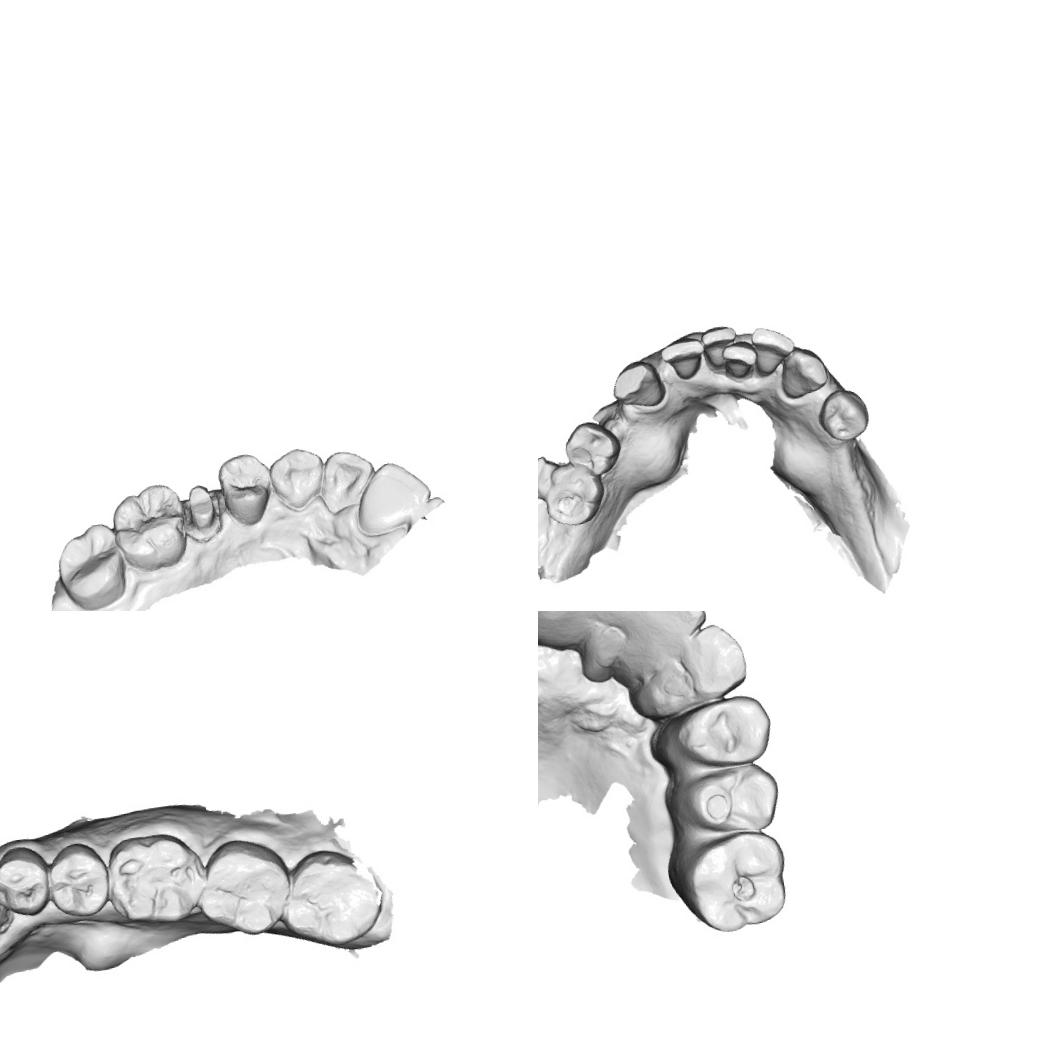canine: (673, 620, 750, 700), (265, 441, 330, 513), (608, 352, 666, 412), (775, 343, 832, 402)
crown: (182, 479, 224, 543)
incisor: (350, 455, 436, 538), (315, 445, 380, 516), (747, 322, 800, 378), (639, 611, 712, 646), (659, 335, 708, 384), (698, 322, 742, 370), (720, 337, 760, 382)
molar: (682, 827, 793, 942), (188, 832, 296, 944), (274, 846, 382, 952), (102, 830, 207, 930), (108, 480, 192, 576), (50, 519, 130, 611), (538, 456, 609, 531)
premolar: (670, 688, 776, 778), (682, 758, 784, 838), (43, 842, 110, 921), (214, 450, 276, 529), (558, 417, 624, 481), (0, 846, 51, 919), (813, 386, 873, 447)
